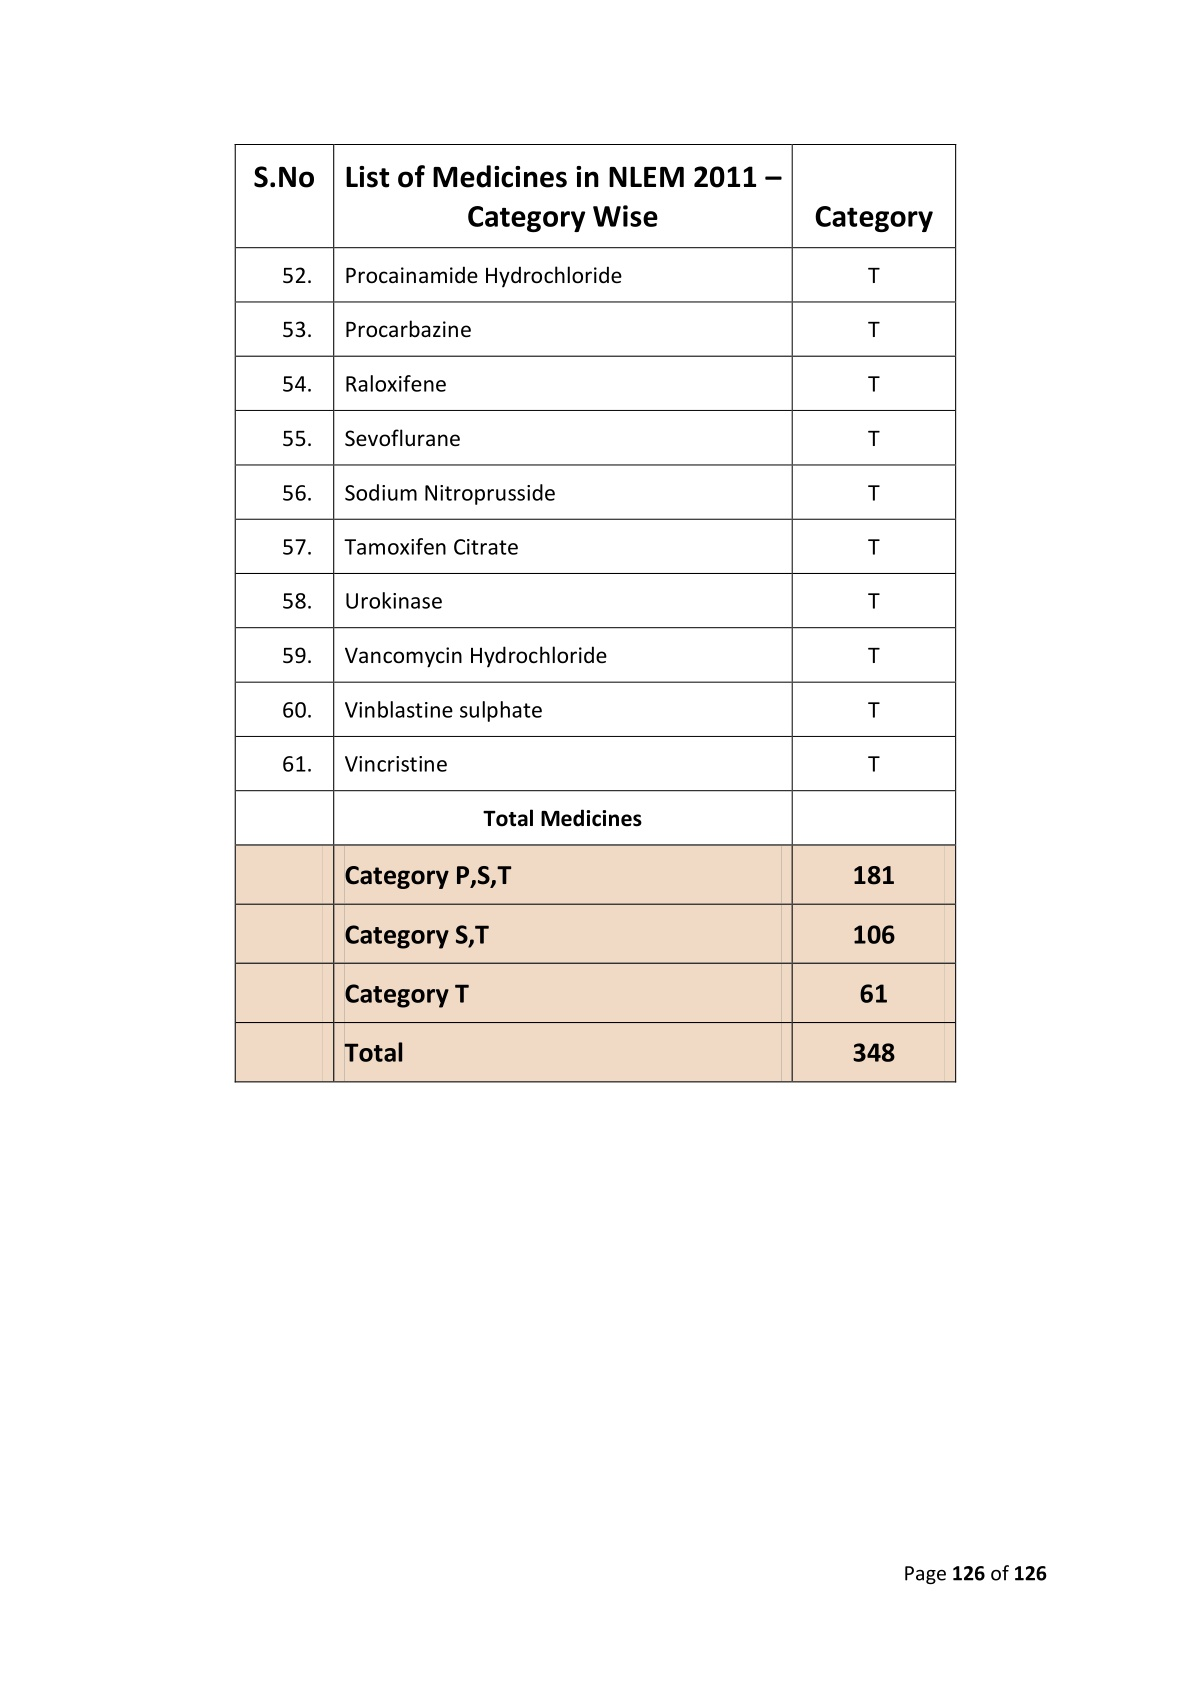full_lined: (233, 142, 956, 1084)
